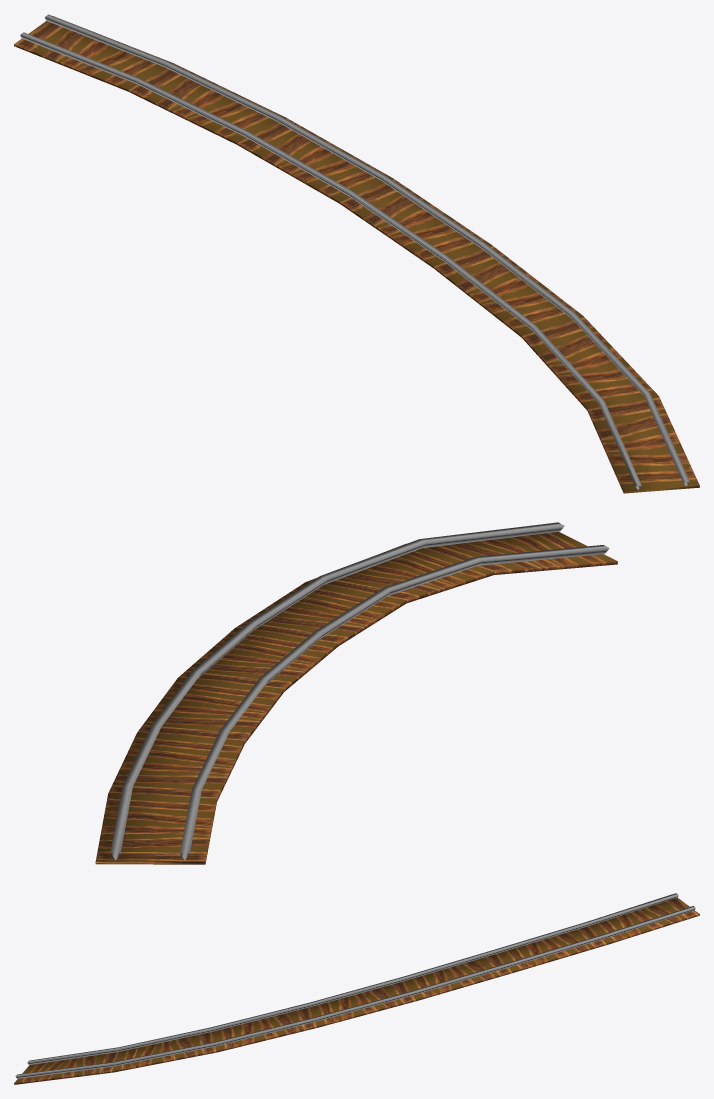
Rendered from SWORDLIGHT20_MAIN1RAILS1SW.fbx.
3 renders of one model, top to bottom at view 1: azimuth 30°, elevation 25°; view 2: azimuth 150°, elevation 25°; view 3: azimuth 270°, elevation 25°, orthographic. The views are drawn at different scales.
Parts seen in each view (by area): view 1: SWORDLIGHT20_MAIN1RAILS1SW; view 2: SWORDLIGHT20_MAIN1RAILS1SW; view 3: SWORDLIGHT20_MAIN1RAILS1SW.
Part boxes in pixels (left/top/right/bottom): SWORDLIGHT20_MAIN1RAILS1SW: left=14, top=14, right=699, bottom=493; SWORDLIGHT20_MAIN1RAILS1SW: left=95, top=522, right=617, bottom=864; SWORDLIGHT20_MAIN1RAILS1SW: left=14, top=893, right=699, bottom=1084.
Size of the model in its own units: 61296 by 38330 by 203075.
2 materials, 2 textured.
